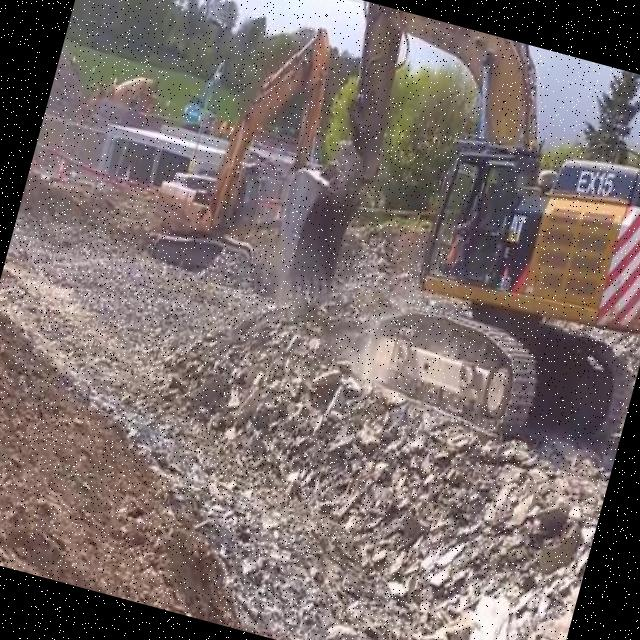Excavator: (247, 0, 640, 481), (135, 0, 342, 313), (175, 47, 235, 142)
